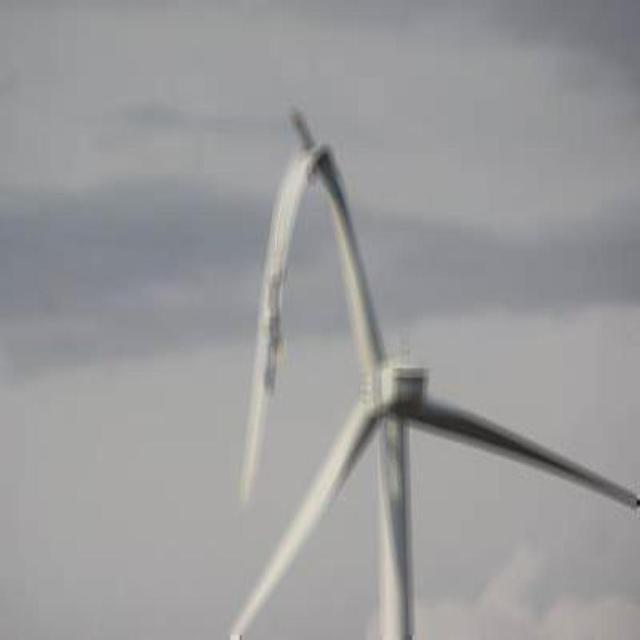crack: (226, 97, 356, 510)
